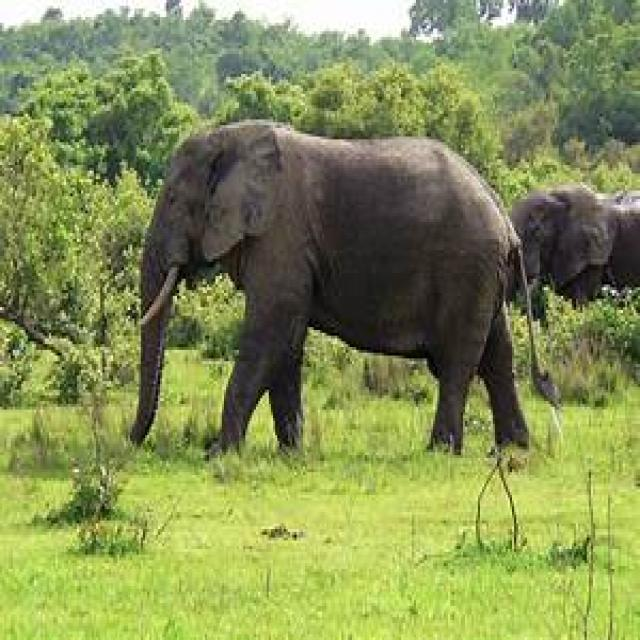elephant: (130, 119, 531, 472)
